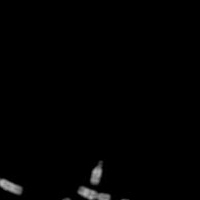chromosome: (0, 171, 22, 194), (78, 185, 110, 200), (90, 161, 102, 184), (62, 198, 75, 200), (110, 199, 130, 200)
